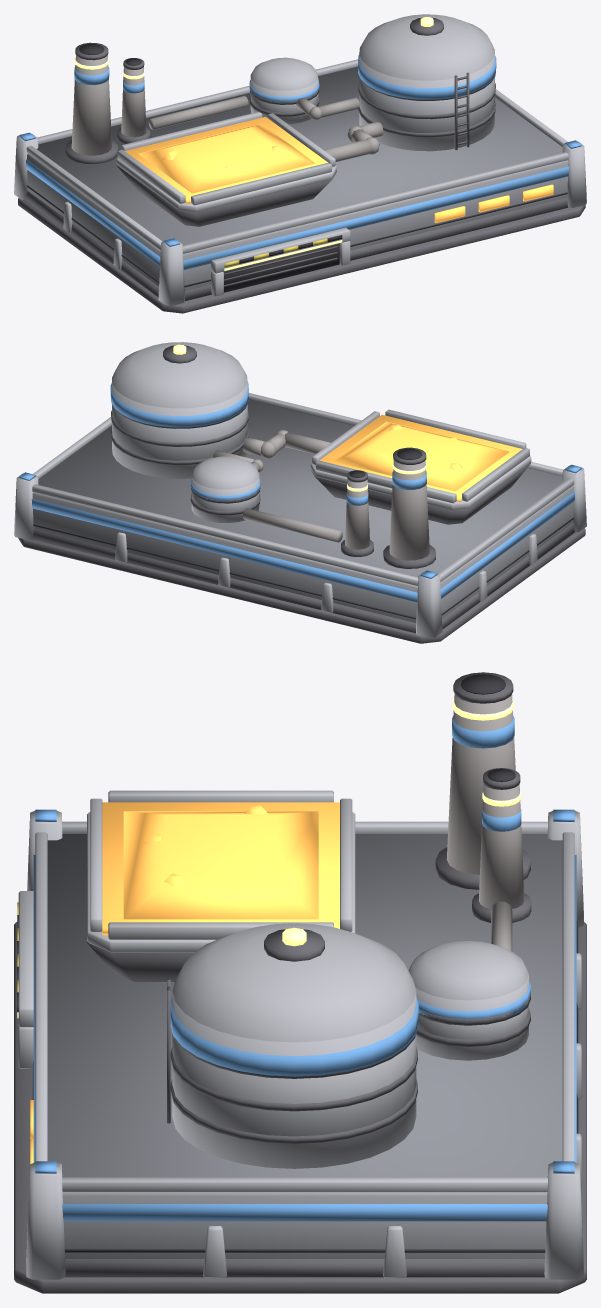
Rendered from refinery.glb.
The picture shows the model from 3 angles, top to bottom: view 1: azimuth 30°, elevation 25°; view 2: azimuth 150°, elevation 25°; view 3: azimuth 270°, elevation 25°; orthographic projection. The views are drawn at different scales.
Visible parts, largest first — view 1: body; view 2: body; view 3: body.
Boxes of the visible parts, left/top/right/bottom form: body: left=14, top=14, right=586, bottom=313; body: left=14, top=342, right=586, bottom=643; body: left=14, top=672, right=586, bottom=1293.
Bounding box in the file's own units: 2.88 × 1.04 × 1.88.
